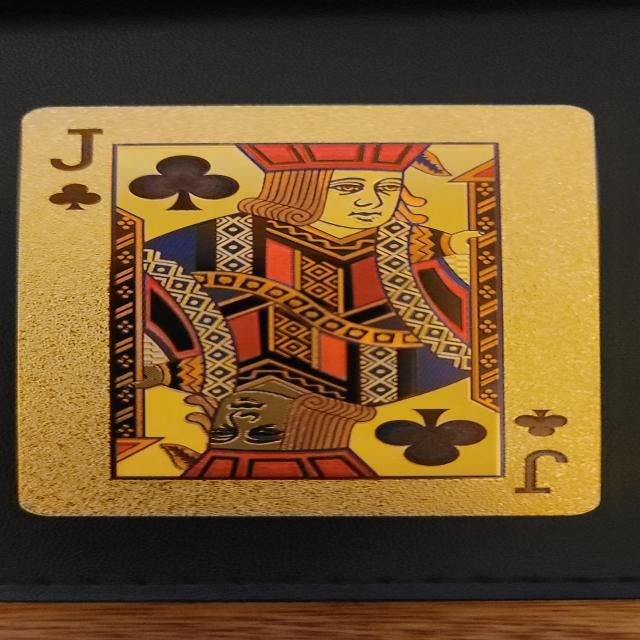Jack of clubs: (17, 105, 601, 518)
